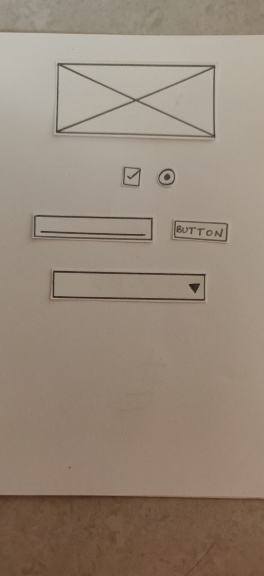button: (170, 218, 232, 243)
checkbox: (121, 164, 140, 189)
dropdown: (52, 268, 208, 303)
img: (52, 60, 220, 142)
radio: (156, 166, 176, 187)
text: (31, 212, 156, 244)
